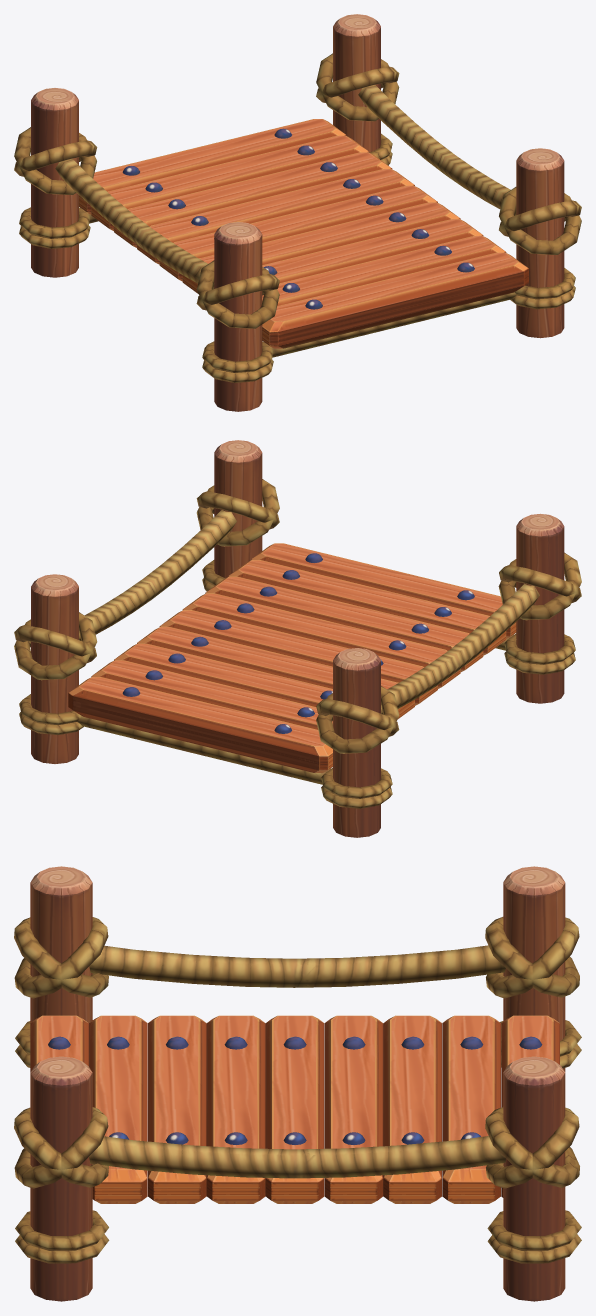
Rendered from qiao.FBX.
3 views of the same model, one above another, from view 1: azimuth 30°, elevation 25°; view 2: azimuth 150°, elevation 25°; view 3: azimuth 270°, elevation 25° (orthographic). The views are drawn at different scales.
Parts seen in each view (by area): view 1: qiao; view 2: qiao; view 3: qiao.
Boxes of the visible parts, x1,y1,x2,y2 form: qiao: [14, 14, 581, 411]; qiao: [14, 440, 581, 837]; qiao: [14, 866, 581, 1301].
Bounding box in the file's own units: 163 × 71.3 × 166.
